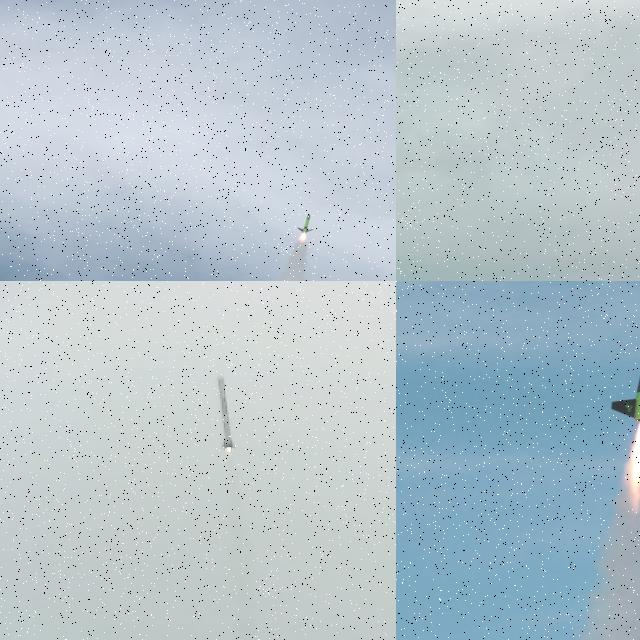Rocket: (611, 281, 640, 423), (215, 375, 238, 448), (297, 214, 314, 234)
